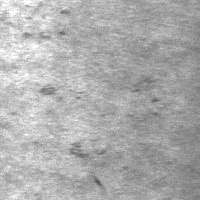rolled-in_scale: (8, 2, 72, 37), (128, 74, 164, 123), (69, 134, 110, 163)
